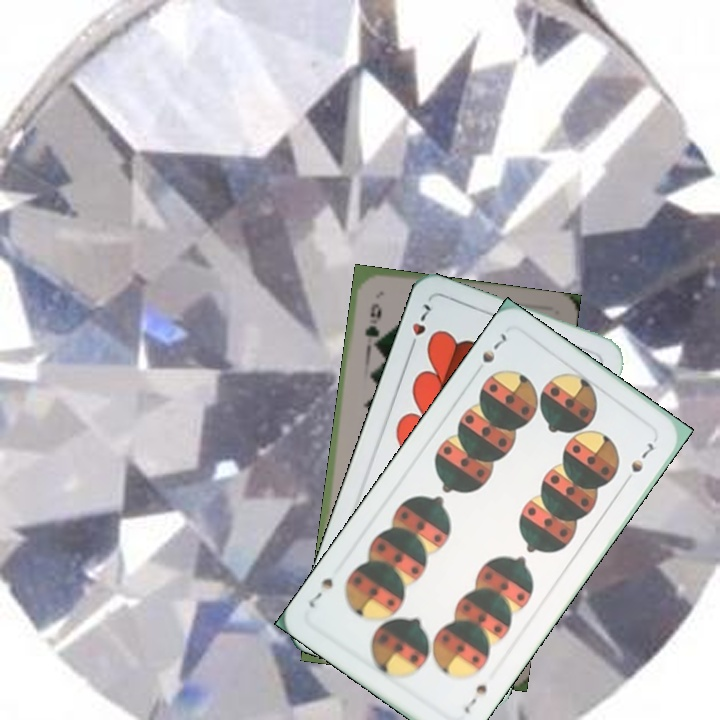G9: (360, 299, 383, 340)
H7: (405, 299, 435, 354)
S7: (477, 329, 512, 366), (459, 680, 490, 716)
